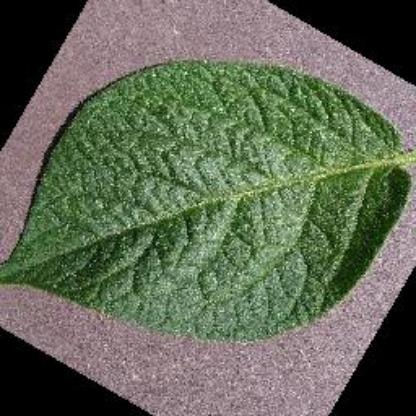Healthy-plant: (4, 39, 416, 359)
